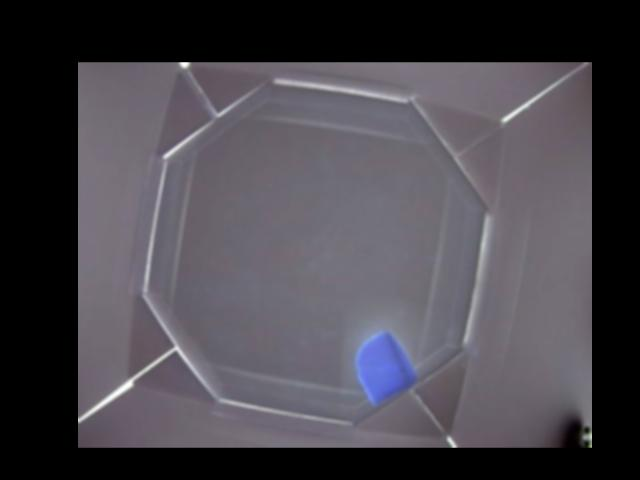Potato: (354, 332, 418, 402)
